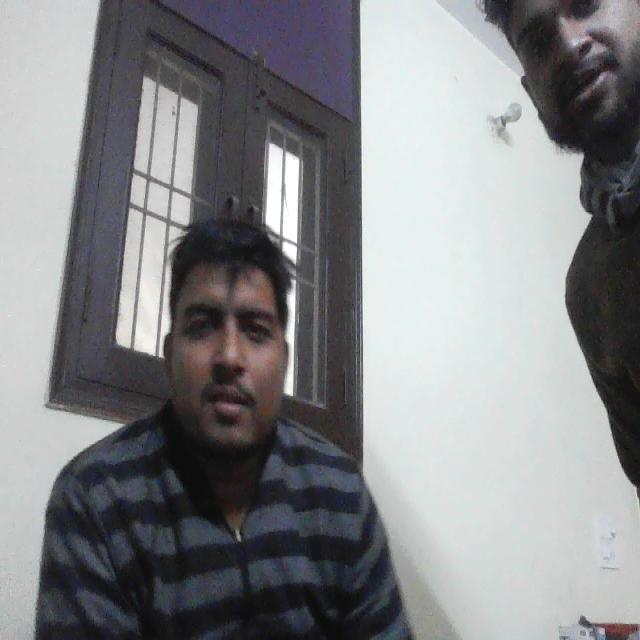real: (156, 192, 301, 465)
